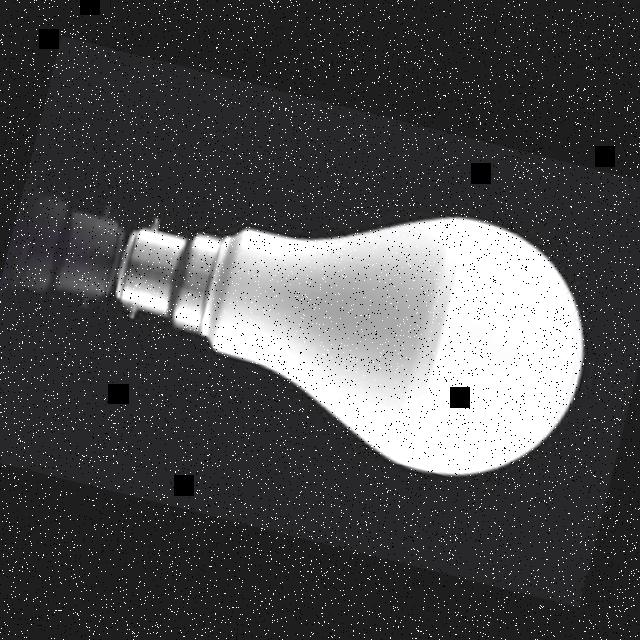light_bulb: (72, 132, 614, 509)
